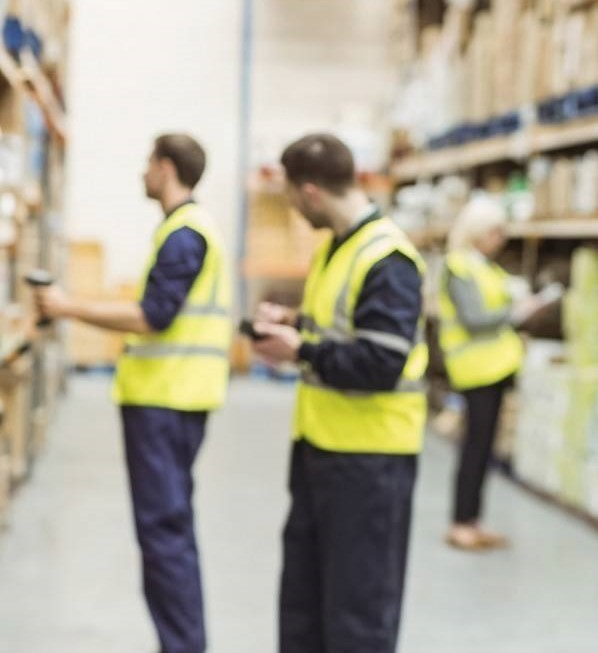noepi: (31, 134, 233, 653), (237, 134, 429, 653), (439, 186, 539, 547)
